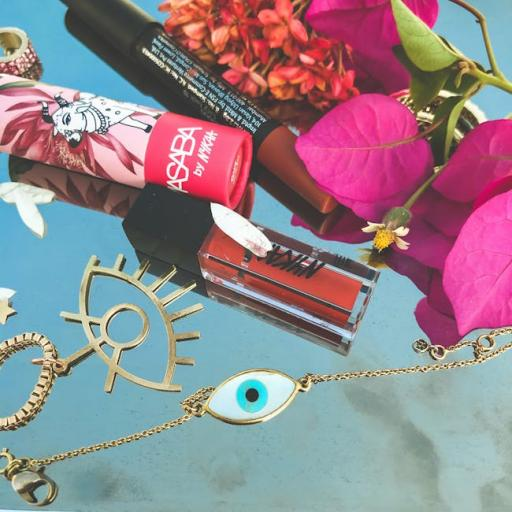lipstick: (123, 185, 378, 353), (0, 75, 252, 207), (65, 10, 190, 115)
